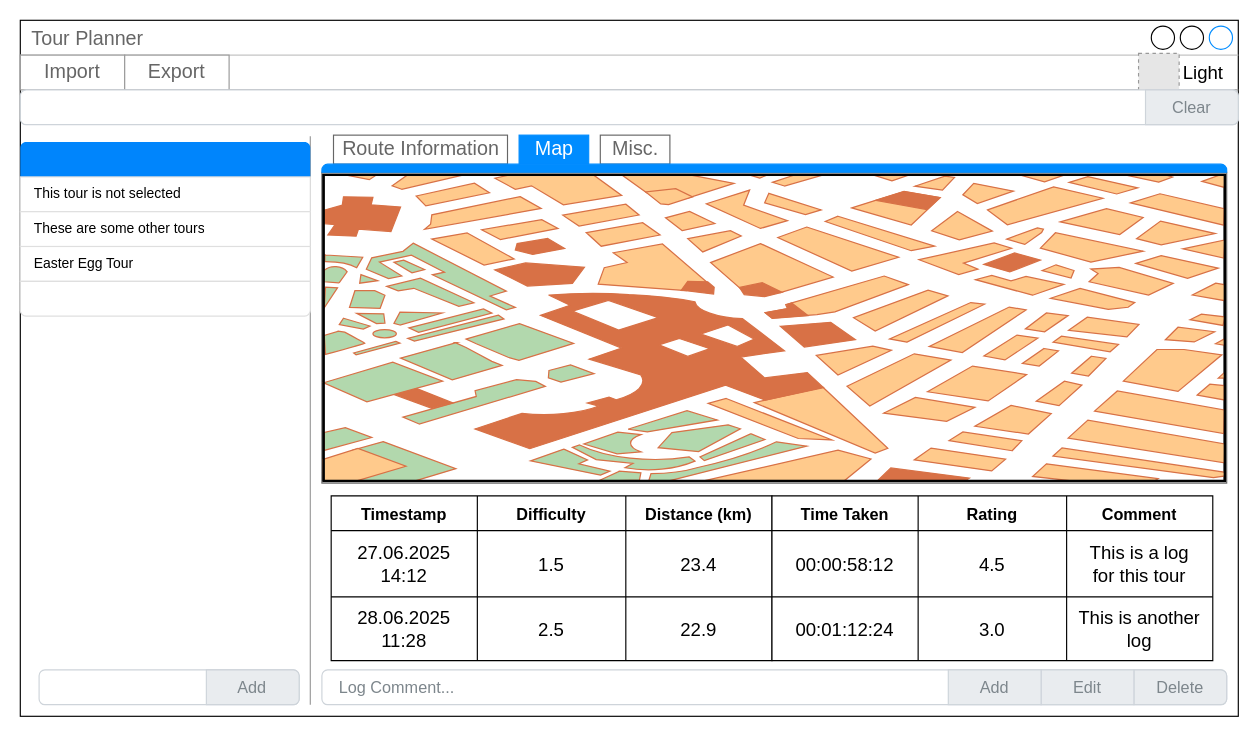
Some shapes in this 1259 by 737 pixel diagram are drawn without their labels. Grey dashed boxes stand in for pictures. The shapes that lost their labels are listed below. From the top down, each one's centre as x and y in pixels, then its label:
At (628,107): "Search...".
At (165,159): "This tour is currently selected".
At (164,298): "I wanna try AvaloniaUI next".
At (168,687): "Tour Name...".
